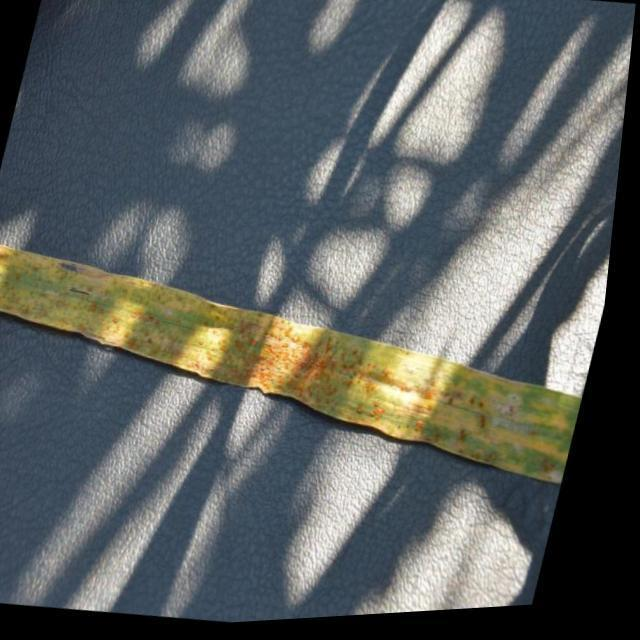Septoria: (0, 243, 591, 496)
